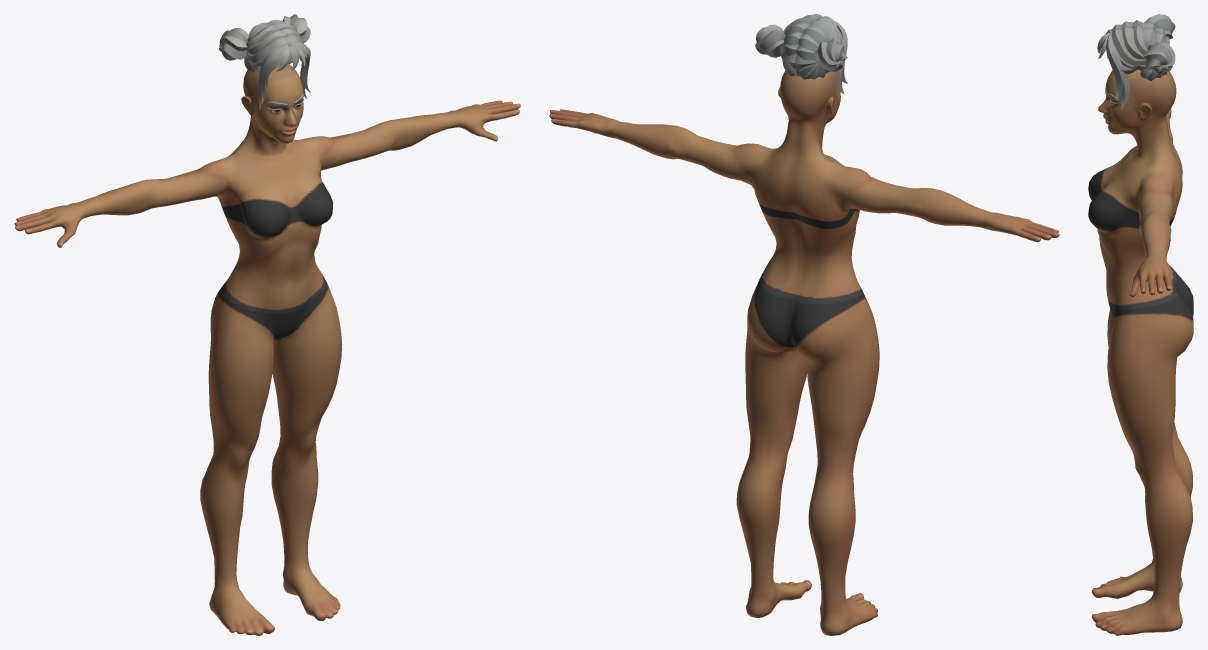
File: character-female-b.glb
3 views of the same model, side by side, from view 1: azimuth 30°, elevation 25°; view 2: azimuth 150°, elevation 25°; view 3: azimuth 270°, elevation 25° (orthographic).
Parts seen in each view (by area): view 1: crowd-body; view 2: crowd-body; view 3: crowd-body.
Boxes of the visible parts, x1,y1,x2,y2 form: crowd-body: (14, 14, 520, 635); crowd-body: (549, 14, 1059, 635); crowd-body: (1088, 14, 1193, 635).
Bounding box in the file's own units: 1.76 × 1.97 × 0.32.
4 materials, 4 textured.
